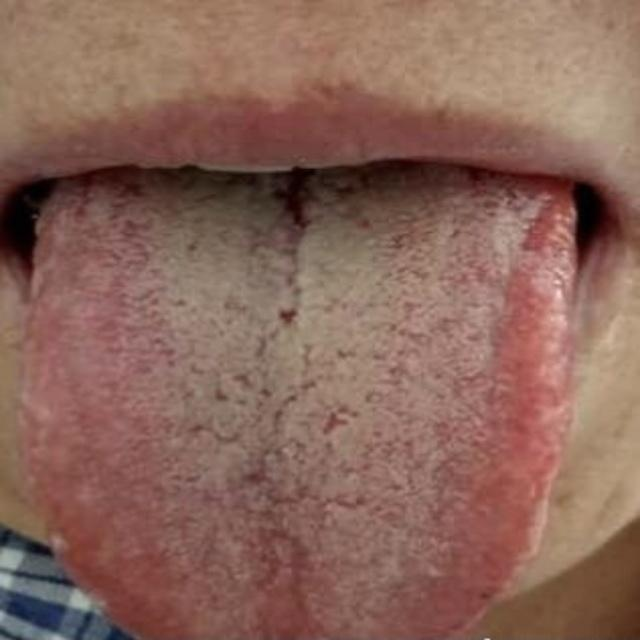baitaishe: (21, 177, 577, 640)
